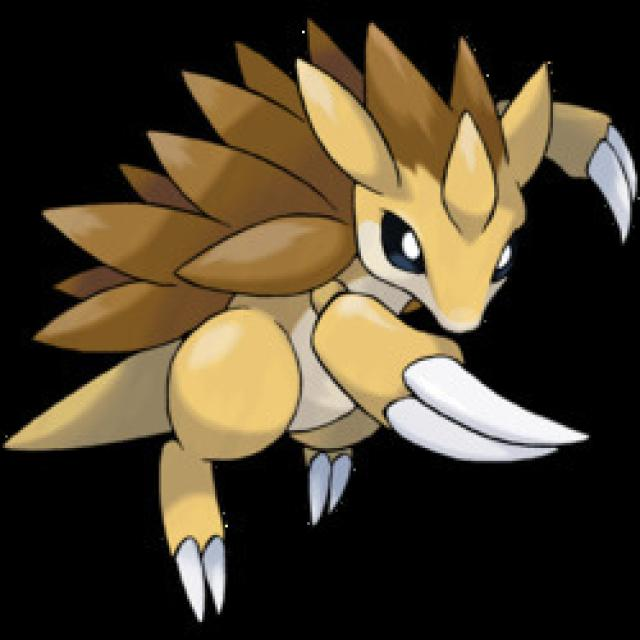Sandslash: (125, 50, 583, 477)
